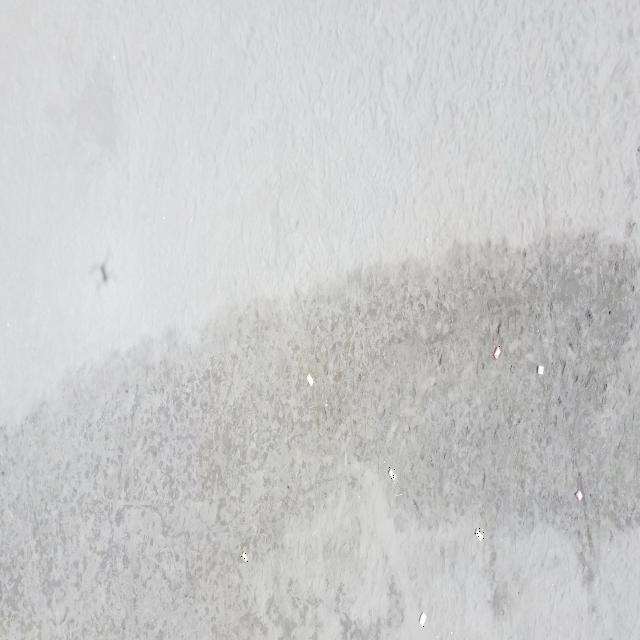Garbage: (492, 344, 500, 359), (475, 527, 484, 539), (573, 488, 582, 500), (419, 612, 426, 626), (387, 467, 395, 479), (536, 364, 543, 375), (241, 552, 247, 562), (307, 372, 312, 384)
